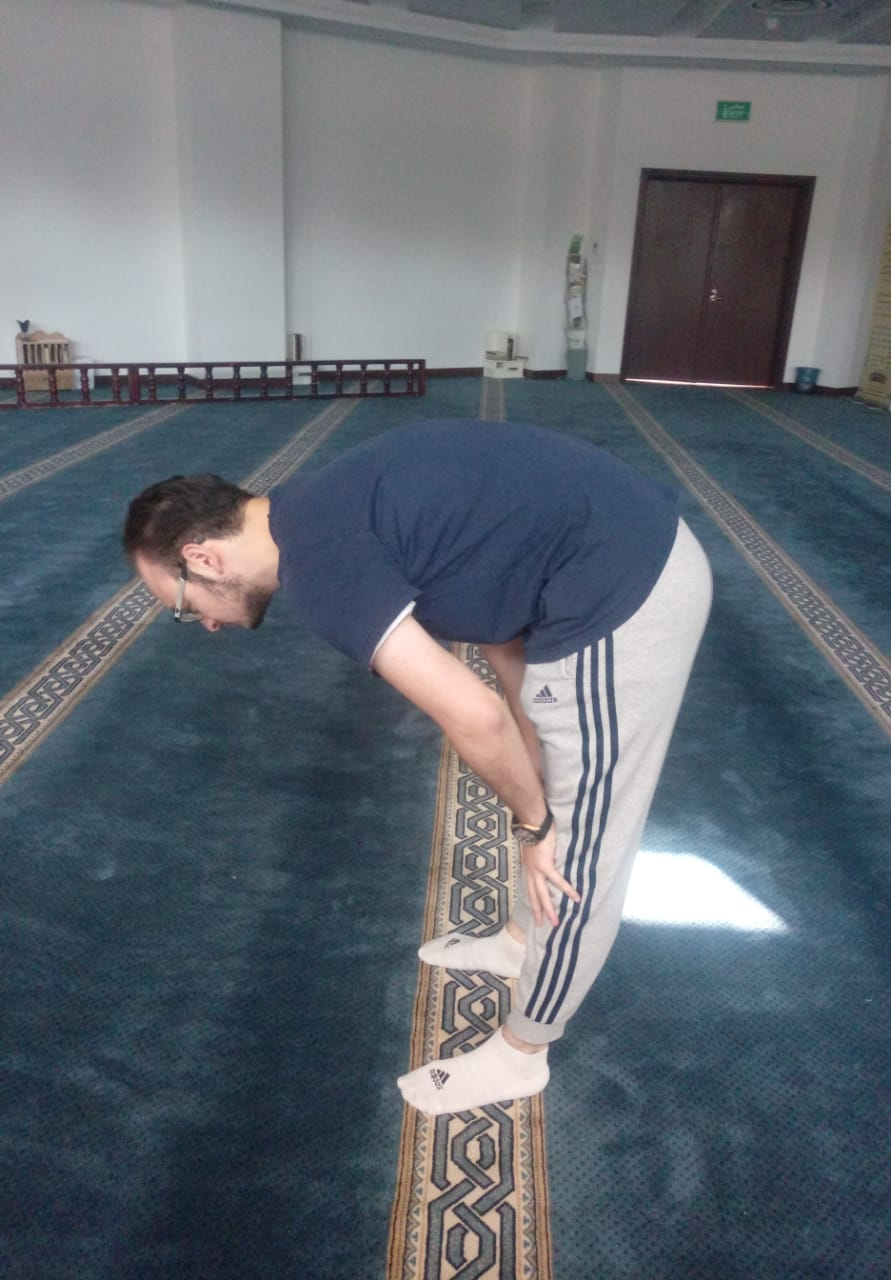ruku: (36, 393, 829, 1141)
